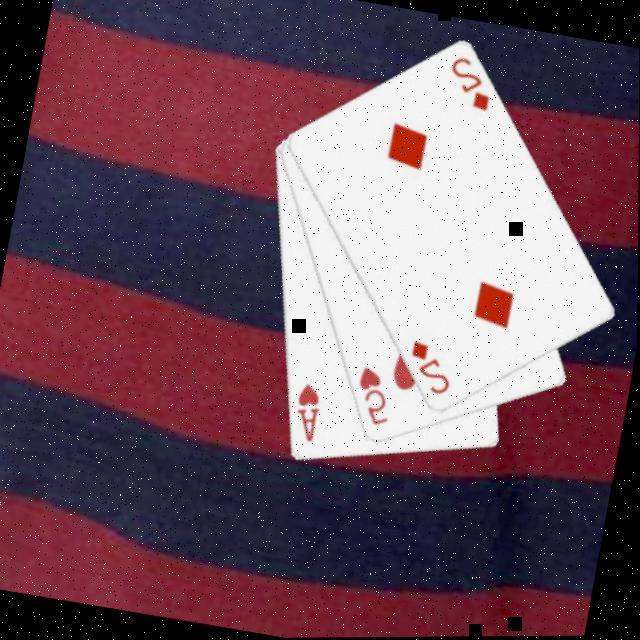2D: (440, 51, 501, 115), (402, 335, 461, 399)
5H: (348, 360, 400, 430)
AH: (287, 377, 328, 445)
